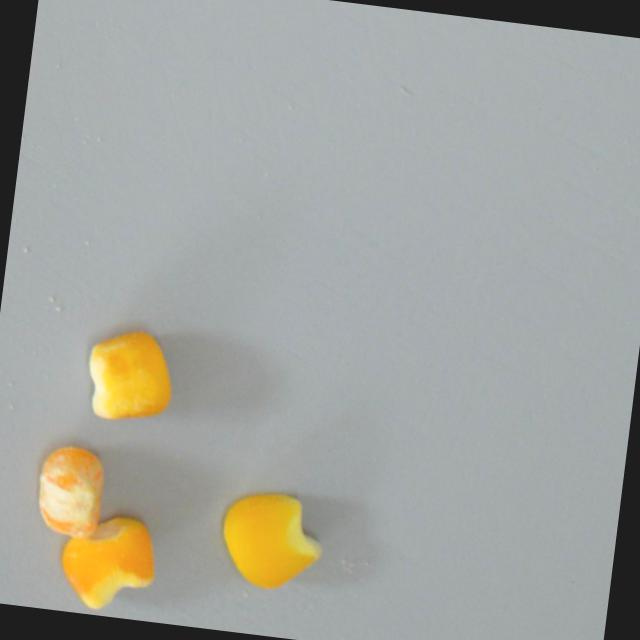dañado: (54, 505, 163, 619), (78, 319, 182, 431), (27, 437, 109, 544)
no_canjicado: (212, 480, 334, 601)
